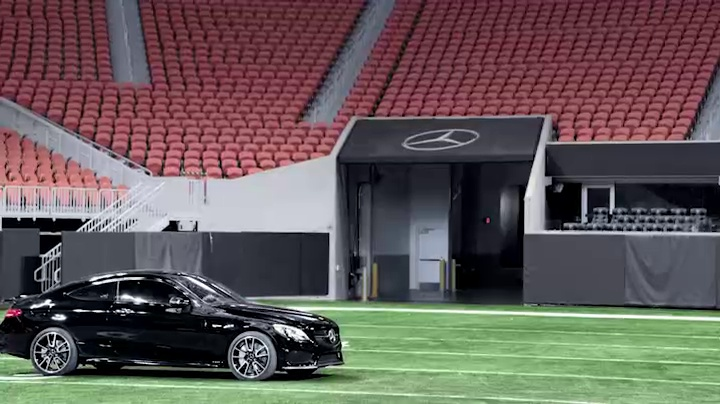amg: (1, 268, 346, 382)
